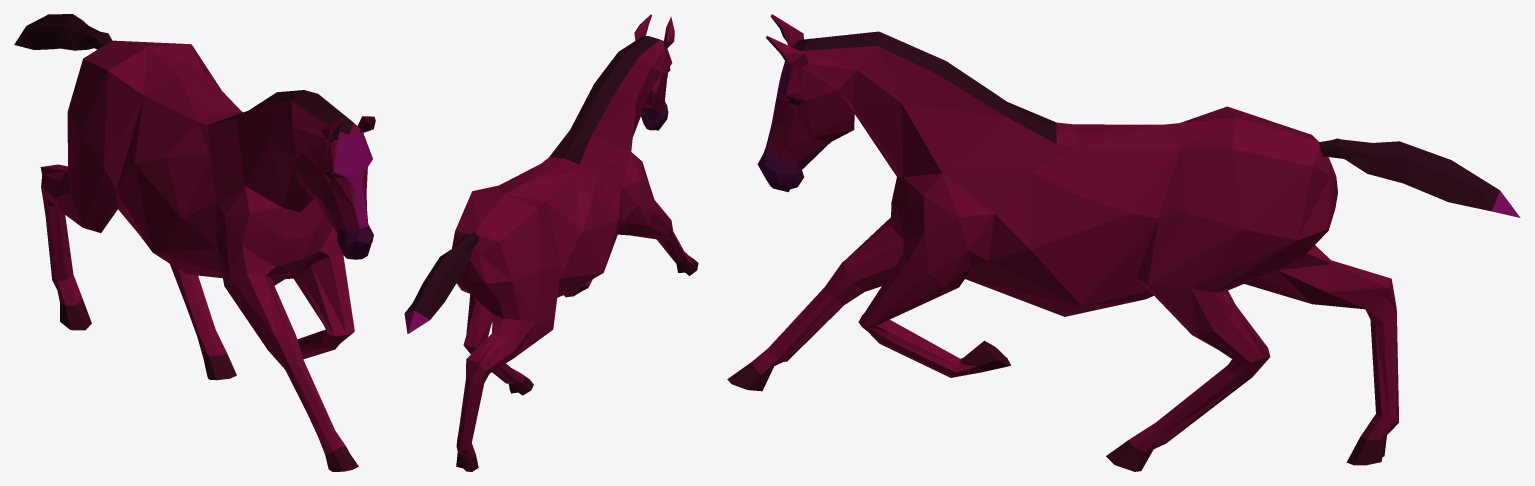
Rendered from merry go round horse.glb.
The picture shows the model from 3 angles, left to right: view 1: azimuth 30°, elevation 25°; view 2: azimuth 150°, elevation 25°; view 3: azimuth 270°, elevation 25°; orthographic projection. The views are drawn at different scales.
Visible parts, largest first — view 1: mesh_0; view 2: mesh_0; view 3: mesh_0.
Part boxes in pixels (box(x1,y1,x2,y2)): mesh_0: box(14, 14, 375, 471); mesh_0: box(404, 14, 698, 471); mesh_0: box(727, 14, 1520, 471).
Bounding box in the file's own units: 62.07 × 181 × 290.
